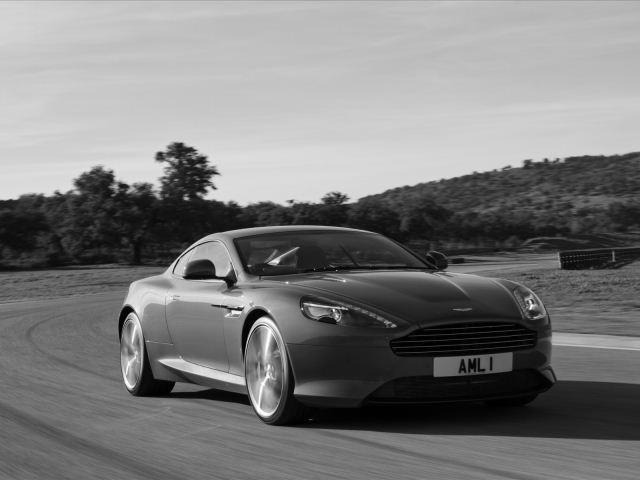car: (117, 222, 558, 434)
